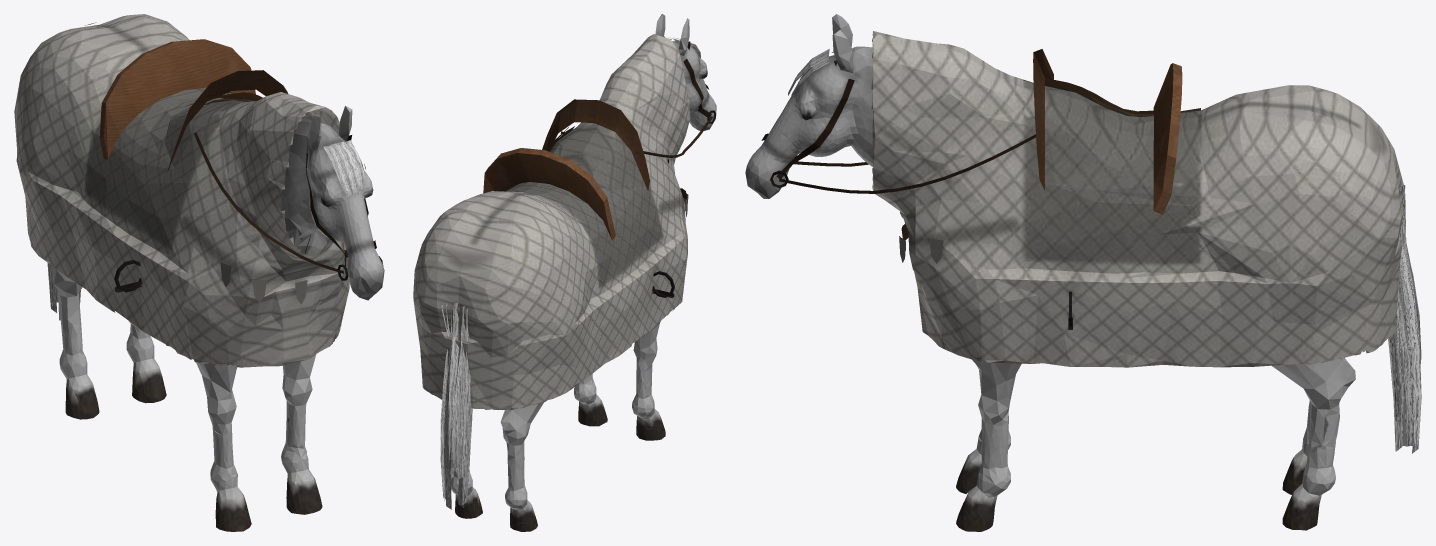
File: horse_destrier_barded.glb
3 views of the same model, side by side, from view 1: azimuth 30°, elevation 25°; view 2: azimuth 150°, elevation 25°; view 3: azimuth 270°, elevation 25° (orthographic). The views are drawn at different scales.
Parts seen in each view (by area): view 1: horse_destrier_barded_LOD0; view 2: horse_destrier_barded_LOD0; view 3: horse_destrier_barded_LOD0.
Part boxes in pixels (bbox=[...]): horse_destrier_barded_LOD0: bbox=[14, 14, 384, 531]; horse_destrier_barded_LOD0: bbox=[413, 14, 716, 531]; horse_destrier_barded_LOD0: bbox=[745, 14, 1421, 531].
Size of what is drawn, in the model's own units: 0.9953 by 1.99 by 2.52.
1 material, 1 textured.
